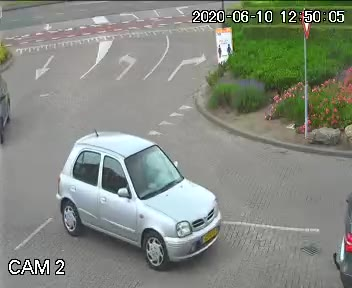car: (52, 127, 255, 280)
